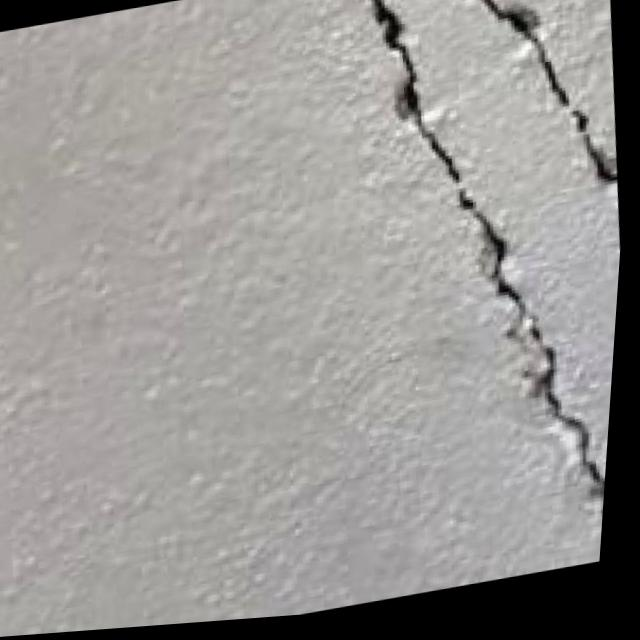Crack: (282, 0, 640, 587)
